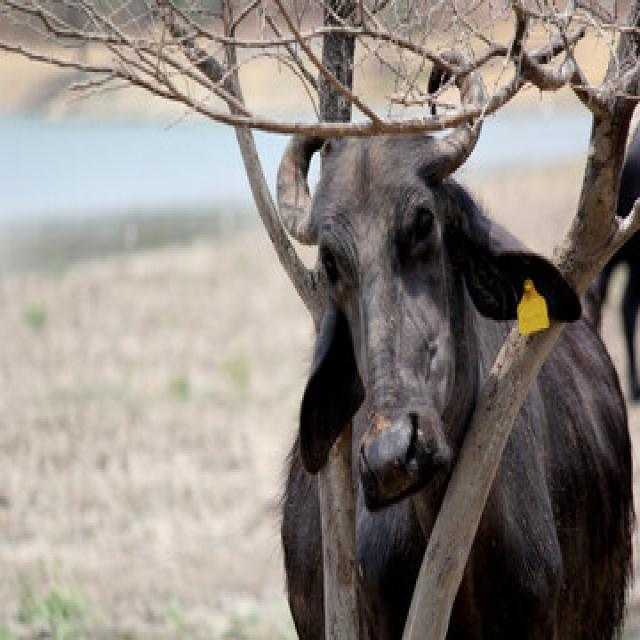Buffalo: (272, 50, 633, 640)
